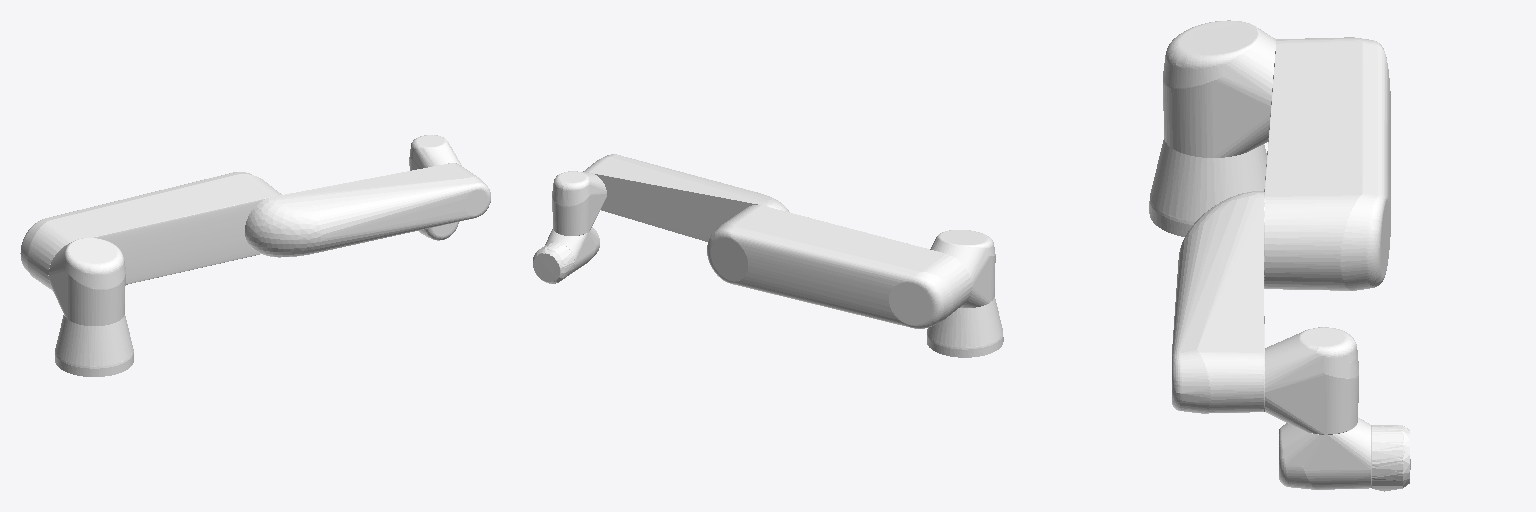
The robot description file, URDF, robot "converted_robot":
<?xml version="1.0" ?>
<robot name="converted_robot">
   <link name="world">
      <inertial>
         <origin xyz="0.0 0.0 0.0" rpy="0.0 0.0 0.0"/>
         <mass value="0.0"/>
         <inertia ixx="0.0" iyy="0.0" izz="0.0" ixy="0" ixz="0" iyz="0"/>
      </inertial>
   </link>
   <link name="base">
      <inertial>
         <origin xyz="0.0 0.0 0.0" rpy="0.0 0.0 0.0"/>
         <mass value="0.0"/>
         <inertia ixx="0.0" iyy="0.0" izz="0.0" ixy="0" ixz="0" iyz="0"/>
      </inertial>
      <visual name="base_vis">
         <origin xyz="1.1864786496869382e-06 7.731402152725385e-07 0.0434539013374044" rpy="-0.3185550281236713 -1.5707385425471796 -2.1941153945834047"/>
         <geometry>
            <mesh filename="convert_meshes/converted_base_vis.stl"/>
         </geometry>
         <material name="white"/>
      </visual>
      <visual name="base">
         <origin xyz="-1.464658149674462e-06 -1.5250878804690668e-06 0.04489269195612102" rpy="-2.129371858176938 -1.5707675458742105 -0.6771954825466278"/>
         <geometry>
            <mesh filename="convert_meshes/converted_base.stl"/>
         </geometry>
         <material name="white"/>
      </visual>
   </link>
   <link name="world2base_fixed">
      <inertial>
         <origin xyz="0.0 0.0 0.0" rpy="0.0 0.0 0.0"/>
         <mass value="0.001"/>
         <inertia ixx="1e-09" iyy="1e-09" izz="1e-09" ixy="0" ixz="0" iyz="0"/>
      </inertial>
   </link>
   <joint type="fixed" name="world2base_fixed">
      <parent link="world"/>
      <child link="world2base_fixed"/>
      <origin xyz="0.0 0.0 0.0" rpy="0.0 0.0 0.0"/>
   </joint>
   <joint type="fixed" name="world2base_fixed_offset">
      <parent link="world2base_fixed"/>
      <child link="base"/>
      <origin xyz="-0.0 -0.0 -0.0" rpy="0.0 0.0 0.0"/>
   </joint>
   <link name="shoulder_link">
      <inertial>
         <origin xyz="0.0 0.0 0.0" rpy="0.0 0.0 0.0"/>
         <mass value="3.7"/>
         <inertia ixx="0.0102675" iyy="0.0102675" izz="0.00666" ixy="0" ixz="0" iyz="0"/>
      </inertial>
      <visual name="shoulder_vis">
         <origin xyz="3.68371238395984e-06 0.010441755056638182 0.0014166065088147988" rpy="2.540133316150911 4.006248667232093e-05 0.0002674218825550272"/>
         <geometry>
            <mesh filename="convert_meshes/converted_shoulder_vis.stl"/>
         </geometry>
         <material name="white"/>
      </visual>
      <visual name="shoulder">
         <origin xyz="1.9586085519218157e-07 0.01202113468780268 -0.00022526517915847147" rpy="-0.5256697464385937 5.919798250908492e-05 4.343484358949424e-05"/>
         <geometry>
            <mesh filename="convert_meshes/converted_shoulder.stl"/>
         </geometry>
         <material name="white"/>
      </visual>
   </link>
   <link name="shoulder_pan_joint">
      <inertial>
         <origin xyz="0.0 0.0 0.0" rpy="0.0 0.0 0.0"/>
         <mass value="0.001"/>
         <inertia ixx="1e-09" iyy="1e-09" izz="1e-09" ixy="0" ixz="0" iyz="0"/>
      </inertial>
   </link>
   <joint type="revolute" name="shoulder_pan_joint">
      <parent link="base"/>
      <child link="shoulder_pan_joint"/>
      <origin xyz="0.0 0.0 0.163" rpy="0.0 0.0 0.0"/>
      <axis xyz="0.0 0.0 1.0"/>
      <limit lower="-0.10966235302838252" upper="0.10966235302838252" effort="100" velocity="100"/>
   </joint>
   <joint type="fixed" name="shoulder_pan_joint_offset">
      <parent link="shoulder_pan_joint"/>
      <child link="shoulder_link"/>
      <origin xyz="-0.0 -0.0 -0.0" rpy="0.0 0.0 0.0"/>
   </joint>
   <link name="upper_arm_link">
      <inertial>
         <origin xyz="0.0 0.0 0.2125" rpy="0.0 0.0 0.0"/>
         <mass value="8.393"/>
         <inertia ixx="0.133886" iyy="0.133886" izz="0.0151074" ixy="0" ixz="0" iyz="0"/>
      </inertial>
      <visual name="upperarm_vis">
         <origin xyz="-1.2503586942206394e-06 -0.0008441038996050137 0.22021499633648473" rpy="-3.118966904001695 -1.6983729308028828e-05 -1.2619532238805528e-05"/>
         <geometry>
            <mesh filename="convert_meshes/converted_upperarm_vis.stl"/>
         </geometry>
         <material name="white"/>
      </visual>
      <visual name="upperarm">
         <origin xyz="1.0618840856034099e-05 -0.0024170298225821623 0.21692374986287544" rpy="0.016639863861747286 3.339291547854728e-05 0.0006220479799090221"/>
         <geometry>
            <mesh filename="convert_meshes/converted_upperarm.stl"/>
         </geometry>
         <material name="white"/>
      </visual>
   </link>
   <link name="shoulder_lift_joint">
      <inertial>
         <origin xyz="0.0 0.0 0.0" rpy="0.0 0.0 0.0"/>
         <mass value="0.001"/>
         <inertia ixx="1e-09" iyy="1e-09" izz="1e-09" ixy="0" ixz="0" iyz="0"/>
      </inertial>
   </link>
   <joint type="revolute" name="shoulder_lift_joint">
      <parent link="shoulder_link"/>
      <child link="shoulder_lift_joint"/>
      <origin xyz="0.0 0.138 0.0" rpy="-0.0 1.5707963267948966 0.0"/>
      <axis xyz="0.0 1.0 0.0"/>
      <limit lower="-0.10966235302838252" upper="0.10966235302838252" effort="100" velocity="100"/>
   </joint>
   <joint type="fixed" name="shoulder_lift_joint_offset">
      <parent link="shoulder_lift_joint"/>
      <child link="upper_arm_link"/>
      <origin xyz="-0.0 -0.0 -0.0" rpy="0.0 0.0 0.0"/>
   </joint>
   <link name="forearm_link">
      <inertial>
         <origin xyz="0.0 0.0 0.196" rpy="0.0 0.0 0.0"/>
         <mass value="2.275"/>
         <inertia ixx="0.0311796" iyy="0.0311796" izz="0.004095" ixy="0" ixz="0" iyz="0"/>
      </inertial>
      <visual name="forearm_vis">
         <origin xyz="-1.63146415503683e-05 0.0031981990978773613 0.2038257309560164" rpy="-3.1211609527851345 3.525839854989776e-05 0.001259573525923481"/>
         <geometry>
            <mesh filename="convert_meshes/converted_forearm_vis.stl"/>
         </geometry>
         <material name="white"/>
      </visual>
      <visual name="forearm">
         <origin xyz="-3.0883589584626057e-06 0.005724319404895238 0.19168648669582417" rpy="0.044537617398439595 -8.19619309782027e-05 0.0022250158555110556"/>
         <geometry>
            <mesh filename="convert_meshes/converted_forearm.stl"/>
         </geometry>
         <material name="white"/>
      </visual>
   </link>
   <link name="elbow_joint">
      <inertial>
         <origin xyz="0.0 0.0 0.0" rpy="0.0 0.0 0.0"/>
         <mass value="0.001"/>
         <inertia ixx="1e-09" iyy="1e-09" izz="1e-09" ixy="0" ixz="0" iyz="0"/>
      </inertial>
   </link>
   <joint type="revolute" name="elbow_joint">
      <parent link="upper_arm_link"/>
      <child link="elbow_joint"/>
      <origin xyz="0.0 -0.131 0.425" rpy="0.0 0.0 0.0"/>
      <axis xyz="0.0 1.0 0.0"/>
      <limit lower="-0.05483108924772866" upper="0.05483108924772866" effort="100" velocity="100"/>
   </joint>
   <joint type="fixed" name="elbow_joint_offset">
      <parent link="elbow_joint"/>
      <child link="forearm_link"/>
      <origin xyz="-0.0 -0.0 -0.0" rpy="0.0 0.0 0.0"/>
   </joint>
   <link name="wrist_1_link">
      <inertial>
         <origin xyz="0.0 0.127 0.0" rpy="0.0 0.0 0.0"/>
         <mass value="1.219"/>
         <inertia ixx="0.0025599" iyy="0.0025599" izz="0.0021942" ixy="0" ixz="0" iyz="0"/>
      </inertial>
      <visual name="wrist1_vis">
         <origin xyz="-5.835487758316824e-06 0.11974565829994291 0.0021995820998465337" rpy="3.036337482333626 0.000486012613063469 0.0015928938286026075"/>
         <geometry>
            <mesh filename="convert_meshes/converted_wrist1_vis.stl"/>
         </geometry>
         <material name="white"/>
      </visual>
      <visual name="wrist1">
         <origin xyz="1.1915061264432374e-06 0.10952125105954702 -0.00013863348374579972" rpy="-0.10044993664111126 0.0002622446074322937 0.00023909628141038518"/>
         <geometry>
            <mesh filename="convert_meshes/converted_wrist1.stl"/>
         </geometry>
         <material name="white"/>
      </visual>
   </link>
   <link name="wrist_1_joint">
      <inertial>
         <origin xyz="0.0 0.0 0.0" rpy="0.0 0.0 0.0"/>
         <mass value="0.001"/>
         <inertia ixx="1e-09" iyy="1e-09" izz="1e-09" ixy="0" ixz="0" iyz="0"/>
      </inertial>
   </link>
   <joint type="revolute" name="wrist_1_joint">
      <parent link="forearm_link"/>
      <child link="wrist_1_joint"/>
      <origin xyz="0.0 0.0 0.392" rpy="-0.0 1.5707963267948966 0.0"/>
      <axis xyz="0.0 1.0 0.0"/>
      <limit lower="-0.10966235302838252" upper="0.10966235302838252" effort="100" velocity="100"/>
   </joint>
   <joint type="fixed" name="wrist_1_joint_offset">
      <parent link="wrist_1_joint"/>
      <child link="wrist_1_link"/>
      <origin xyz="-0.0 -0.0 -0.0" rpy="0.0 0.0 0.0"/>
   </joint>
   <link name="wrist_2_link">
      <inertial>
         <origin xyz="0.0 0.0 0.1" rpy="0.0 0.0 0.0"/>
         <mass value="1.219"/>
         <inertia ixx="0.0025599" iyy="0.0025599" izz="0.0021942" ixy="0" ixz="0" iyz="0"/>
      </inertial>
      <visual name="wrist2_vis">
         <origin xyz="7.754988120976183e-06 0.002535652677643965 0.09907621796805606" rpy="-2.803328822072211 -1.5330040536888467 -1.9089491871090716"/>
         <geometry>
            <mesh filename="convert_meshes/converted_wrist2_vis.stl"/>
         </geometry>
         <material name="white"/>
      </visual>
      <visual name="wrist2">
         <origin xyz="1.692480851125e-06 -0.0006019267627038545 0.09400757574611827" rpy="1.5771585550708074 0.0013312693308693557 0.00019704097525019603"/>
         <geometry>
            <mesh filename="convert_meshes/converted_wrist2.stl"/>
         </geometry>
         <material name="white"/>
      </visual>
   </link>
   <link name="wrist_2_joint">
      <inertial>
         <origin xyz="0.0 0.0 0.0" rpy="0.0 0.0 0.0"/>
         <mass value="0.001"/>
         <inertia ixx="1e-09" iyy="1e-09" izz="1e-09" ixy="0" ixz="0" iyz="0"/>
      </inertial>
   </link>
   <joint type="revolute" name="wrist_2_joint">
      <parent link="wrist_1_link"/>
      <child link="wrist_2_joint"/>
      <origin xyz="0.0 0.127 0.0" rpy="0.0 0.0 0.0"/>
      <axis xyz="0.0 0.0 1.0"/>
      <limit lower="-0.10966235302838252" upper="0.10966235302838252" effort="100" velocity="100"/>
   </joint>
   <joint type="fixed" name="wrist_2_joint_offset">
      <parent link="wrist_2_joint"/>
      <child link="wrist_2_link"/>
      <origin xyz="-0.0 -0.0 -0.0" rpy="0.0 0.0 0.0"/>
   </joint>
   <link name="wrist_3_link">
      <inertial>
         <origin xyz="0.0 0.0771683 0.0" rpy="0.0 0.0 1.5707963267948963"/>
         <mass value="0.1889"/>
         <inertia ixx="0.000132134" iyy="9.90863e-05" izz="9.90863e-05" ixy="0" ixz="0" iyz="0"/>
      </inertial>
      <visual name="wrist3_vis">
         <origin xyz="1.3523594618381733e-05 0.07930889126483555 -0.0005378861160313574" rpy="2.912152622826313 -0.00486406348671653 -1.5712735028574472"/>
         <geometry>
            <mesh filename="convert_meshes/converted_wrist3_vis.stl"/>
         </geometry>
         <material name="white"/>
      </visual>
      <visual name="wrist3">
         <origin xyz="4.2093510728824926e-05 0.07525220789113815 8.394980959118884e-05" rpy="-0.0041657357838009055 -0.013954213980953867 1.5696757454903993"/>
         <geometry>
            <mesh filename="convert_meshes/converted_wrist3.stl"/>
         </geometry>
         <material name="white"/>
      </visual>
   </link>
   <link name="wrist_3_joint">
      <inertial>
         <origin xyz="0.0 0.0 0.0" rpy="0.0 0.0 0.0"/>
         <mass value="0.001"/>
         <inertia ixx="1e-09" iyy="1e-09" izz="1e-09" ixy="0" ixz="0" iyz="0"/>
      </inertial>
   </link>
   <joint type="revolute" name="wrist_3_joint">
      <parent link="wrist_2_link"/>
      <child link="wrist_3_joint"/>
      <origin xyz="0.0 0.0 0.1" rpy="0.0 0.0 0.0"/>
      <axis xyz="0.0 1.0 0.0"/>
      <limit lower="-0.10966235302838252" upper="0.10966235302838252" effort="100" velocity="100"/>
   </joint>
   <joint type="fixed" name="wrist_3_joint_offset">
      <parent link="wrist_3_joint"/>
      <child link="wrist_3_link"/>
      <origin xyz="-0.0 -0.0 -0.0" rpy="0.0 0.0 0.0"/>
   </joint>
   <link name="right_hand">
      <inertial>
         <origin xyz="0.0 0.098 0.0" rpy="-1.5707963267948963 0.0 0.0"/>
         <mass value="0.0"/>
         <inertia ixx="0.0" iyy="0.0" izz="0.0" ixy="0" ixz="0" iyz="0"/>
      </inertial>
   </link>
   <link name="wrist_3_link2right_hand_fixed">
      <inertial>
         <origin xyz="0.0 0.0 0.0" rpy="0.0 0.0 0.0"/>
         <mass value="0.001"/>
         <inertia ixx="1e-09" iyy="1e-09" izz="1e-09" ixy="0" ixz="0" iyz="0"/>
      </inertial>
   </link>
   <joint type="fixed" name="wrist_3_link2right_hand_fixed">
      <parent link="wrist_3_link"/>
      <child link="wrist_3_link2right_hand_fixed"/>
      <origin xyz="0.0 0.098 0.0" rpy="-1.5707963267948963 0.0 0.0"/>
   </joint>
   <joint type="fixed" name="wrist_3_link2right_hand_fixed_offset">
      <parent link="wrist_3_link2right_hand_fixed"/>
      <child link="right_hand"/>
      <origin xyz="-0.0 -0.0 -0.0" rpy="0.0 0.0 0.0"/>
   </joint>
   <material name="white">
      <color rgba="1 1 1 1"/>
   </material>
</robot>

--- Render facts (derived) ---
Views: 3 orthographic renders of the robot side by side, from view 1: azimuth 30°, elevation 25°; view 2: azimuth 150°, elevation 25°; view 3: azimuth 270°, elevation 25°.
Model converted_robot with 17 links and 16 joints (6 revolute, 10 fixed), rooted at world, posed every joint at zero.
Visible links, largest first — view 1: upper_arm_link, forearm_link, shoulder_link, base, wrist_1_link; view 2: upper_arm_link, forearm_link, base, wrist_1_link, shoulder_link, wrist_3_link, wrist_2_link; view 3: upper_arm_link, forearm_link, shoulder_link, wrist_1_link, base, wrist_2_link, wrist_3_link.
Boxes of the visible links, left/top/right/bottom form: upper_arm_link: left=20, top=172, right=281, bottom=290; forearm_link: left=245, top=163, right=490, bottom=257; shoulder_link: left=49, top=238, right=125, bottom=325; base: left=55, top=315, right=133, bottom=376; wrist_1_link: left=409, top=135, right=461, bottom=170; upper_arm_link: left=707, top=205, right=971, bottom=328; forearm_link: left=583, top=154, right=789, bottom=241; base: left=927, top=297, right=1003, bottom=357; wrist_1_link: left=552, top=171, right=606, bottom=235; shoulder_link: left=930, top=230, right=995, bottom=307; wrist_3_link: left=533, top=242, right=574, bottom=283; wrist_2_link: left=545, top=227, right=599, bottom=273; upper_arm_link: left=1264, top=37, right=1390, bottom=290; forearm_link: left=1172, top=191, right=1264, bottom=413; shoulder_link: left=1163, top=20, right=1275, bottom=157; wrist_1_link: left=1265, top=327, right=1358, bottom=434; base: left=1149, top=139, right=1266, bottom=236; wrist_2_link: left=1279, top=418, right=1371, bottom=489; wrist_3_link: left=1372, top=425, right=1410, bottom=491.
Size in the robot's own frame: 0.9318 by 0.3085 by 0.2345 metres.
Meshes: 14 distinct files referenced, 14 mesh visuals loaded (14 binary STL).
